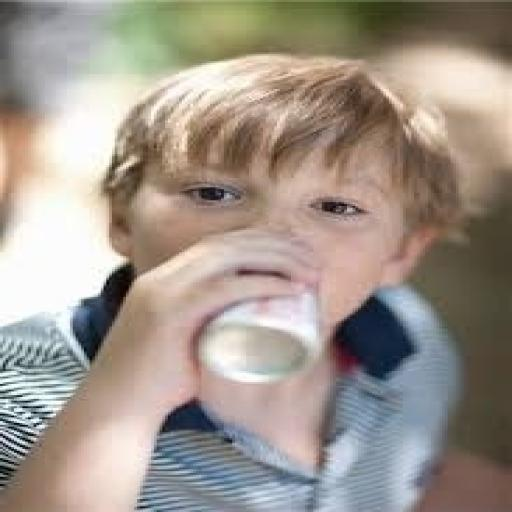drinking: (193, 286, 322, 384)
